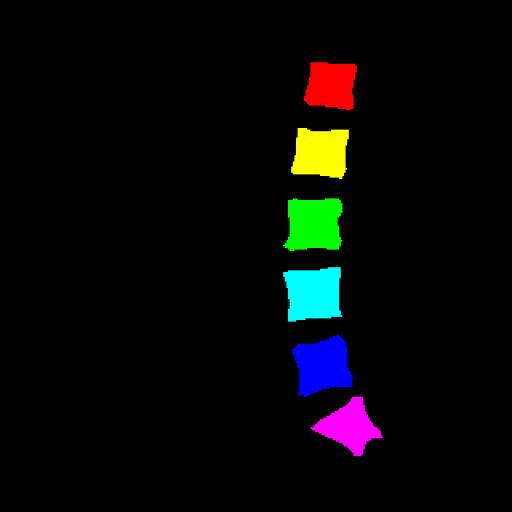L1: (304, 62, 357, 110)
L2: (291, 128, 349, 178)
L3: (284, 198, 342, 251)
L4: (283, 267, 341, 322)
L5: (293, 336, 352, 396)
S1: (312, 397, 382, 456)
